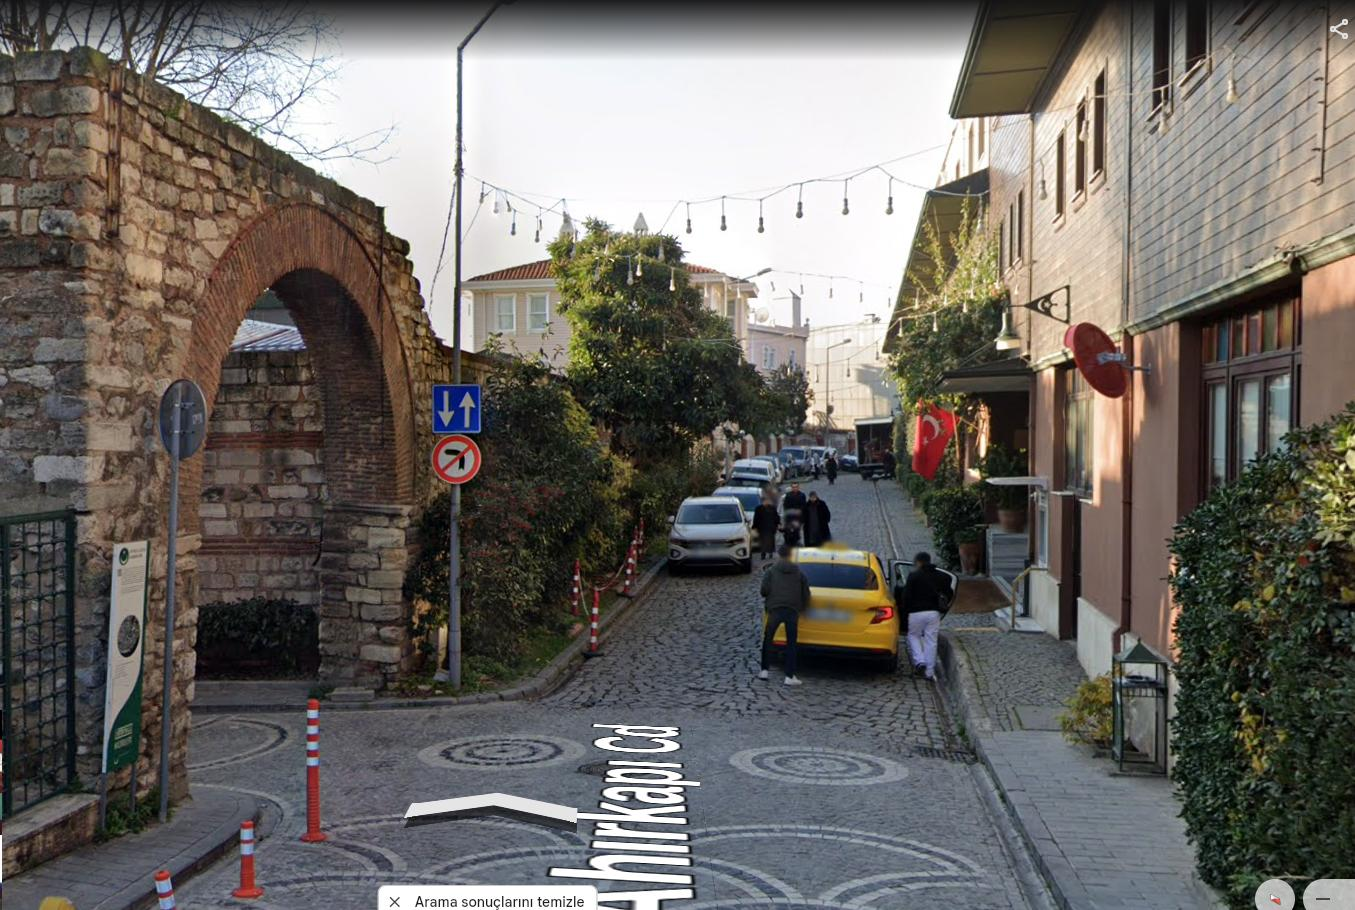leftturnsareforbidden: (432, 435, 480, 481)
